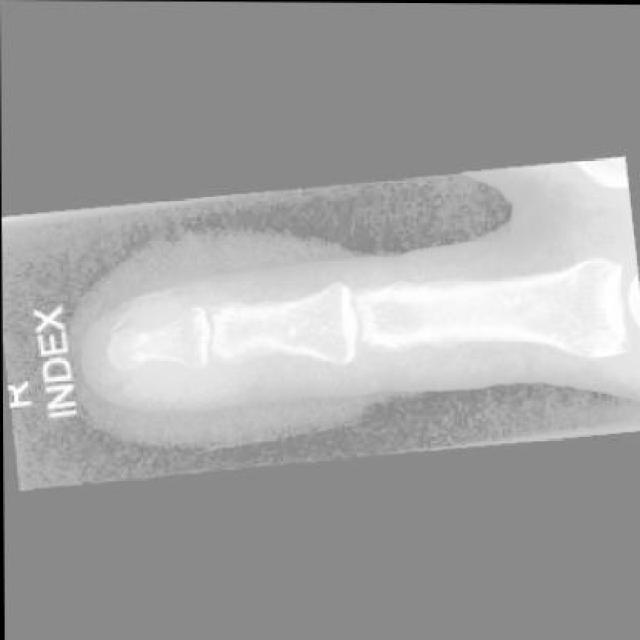Fracture: (103, 329, 134, 371)
